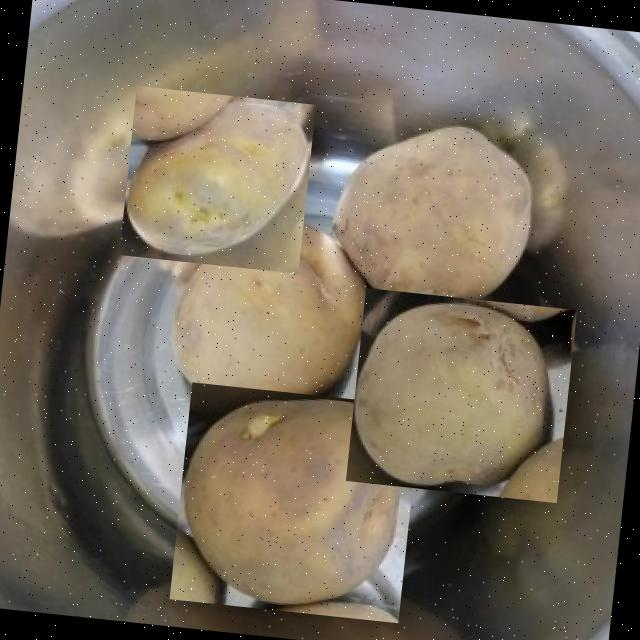Potato: (169, 382, 421, 623), (346, 288, 576, 502), (152, 204, 374, 420), (324, 110, 544, 321), (118, 85, 316, 274)
